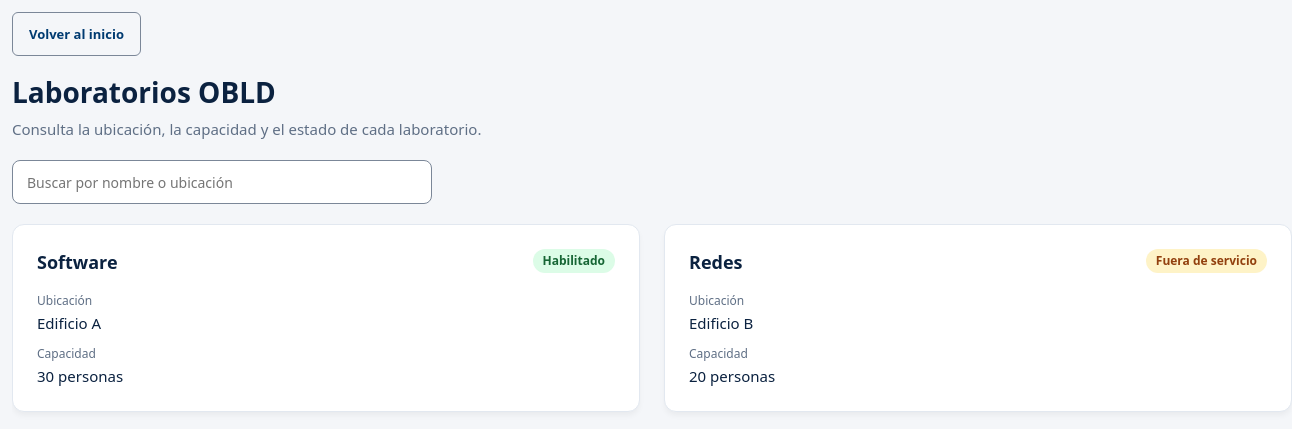
Test case: carga laboratorios y filtra por ubicación
The width and height of the screenshot is (1292, 429).
Expected: the heading "Software" is shown, [37,249,118,276]
Expected: the heading "Redes" is shown, [689,249,742,276]
Step 1. Type "Edificio B" into the search field named "Buscar laboratorio" → (222, 182), box [12,160,432,204]
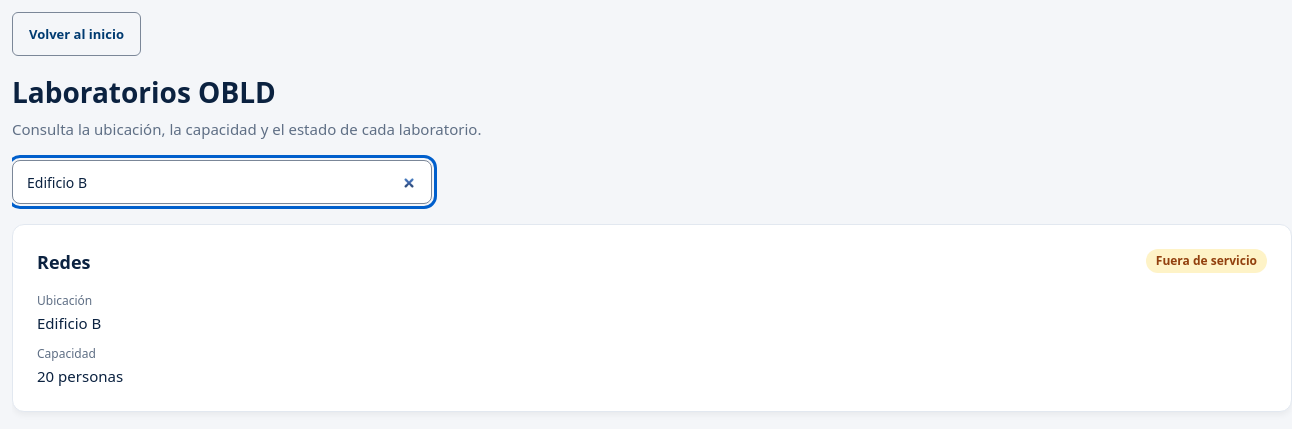
Expected: the heading "Redes" is shown, [37,249,90,276]
Now the heading "Software" is gone
